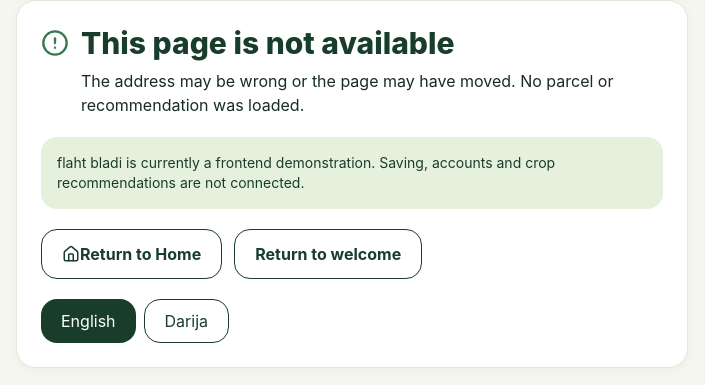
Test: M5 honest recovery screens › 404/recovery copy is bilingual and does not lose its actions
This screenshot has width=705, height=385.
Click the button "Darija" at (186, 321), box [144, 299, 229, 343]
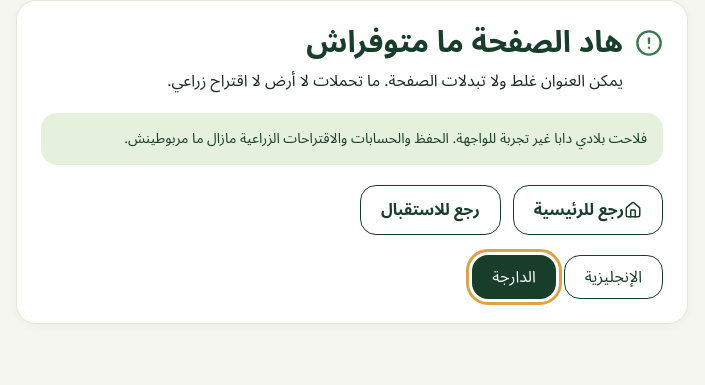
Check: the heading "هاد الصفحة ما متوفراش" is shown, box [306, 11, 623, 74]
